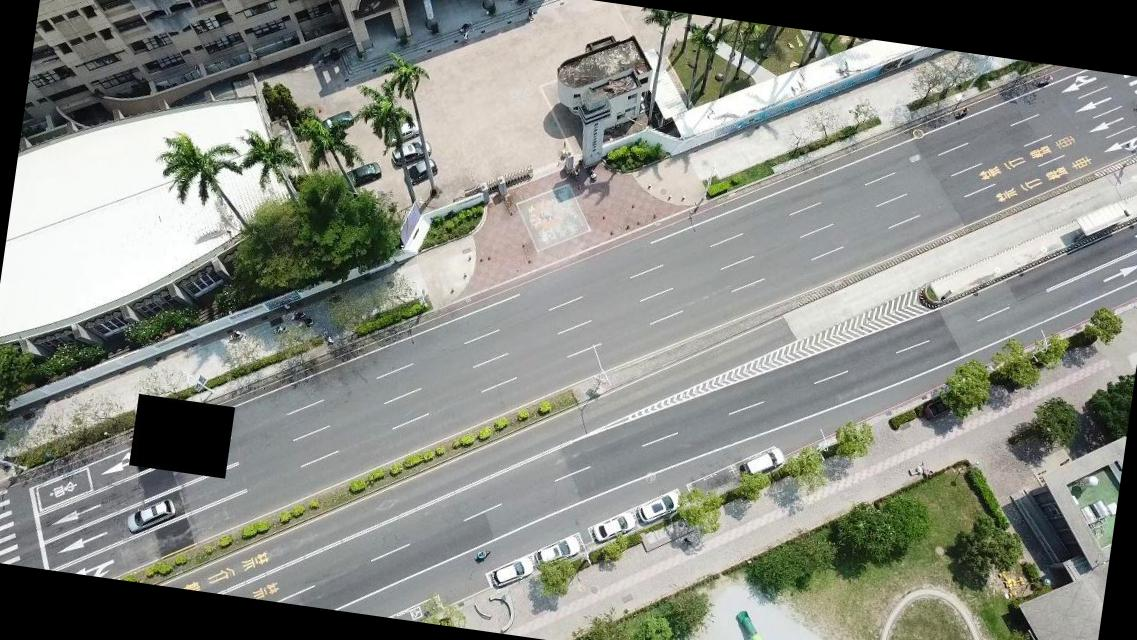vehicle: (124, 494, 175, 536), (490, 553, 534, 595), (590, 508, 638, 546), (334, 156, 382, 194), (736, 444, 780, 480), (640, 487, 679, 525), (399, 153, 438, 189), (380, 114, 422, 146), (390, 138, 431, 169), (318, 108, 354, 136)
